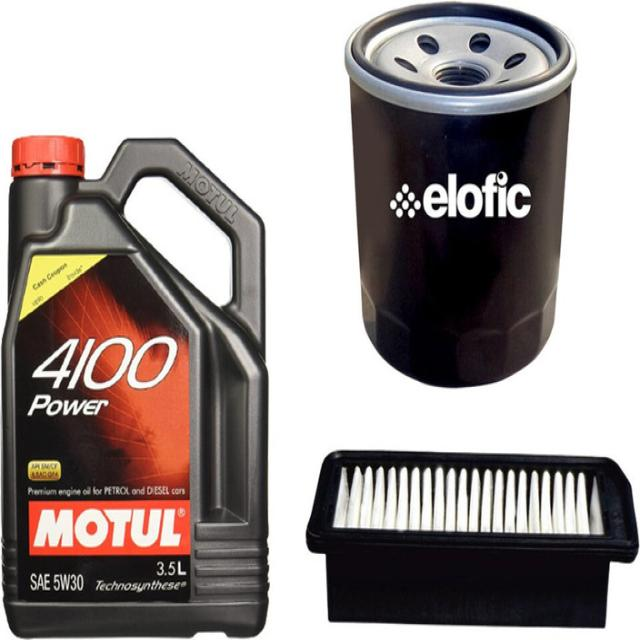air_filter: (302, 432, 640, 636)
motor_oil: (0, 129, 273, 640)
oil_filter: (341, 1, 581, 392)
